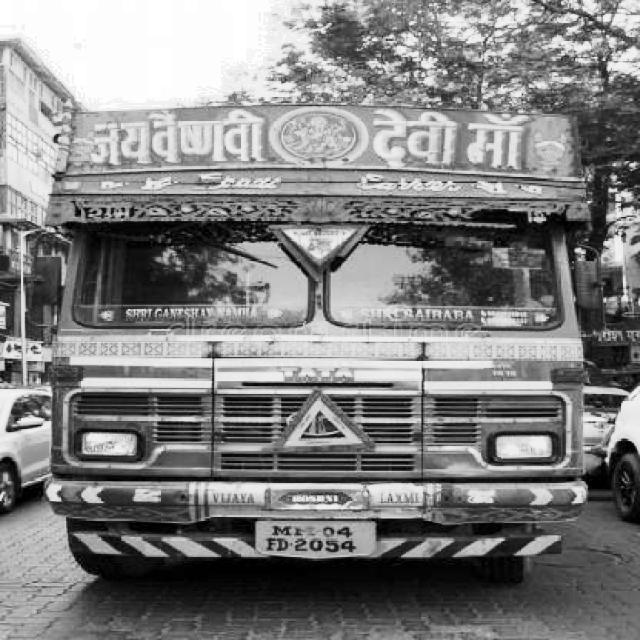HCV: (60, 88, 593, 610)
